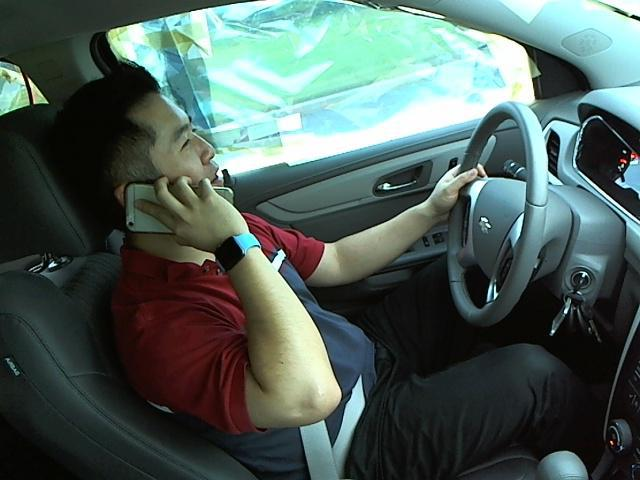c2 - Talking on the phone: (40, 54, 559, 431)
